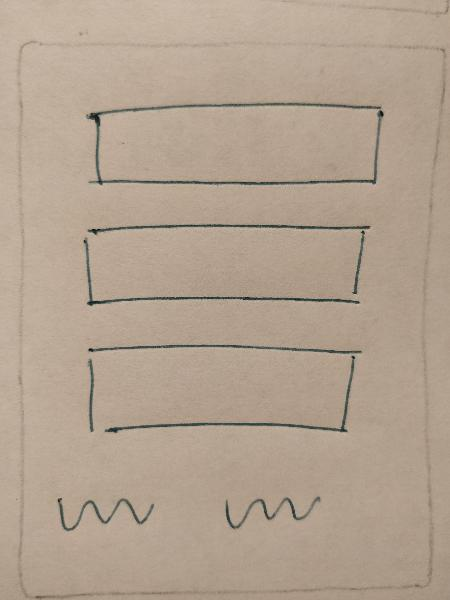text: (46, 484, 167, 537), (207, 480, 323, 534)
text_input: (73, 337, 370, 445), (77, 94, 387, 194), (73, 215, 376, 315)
